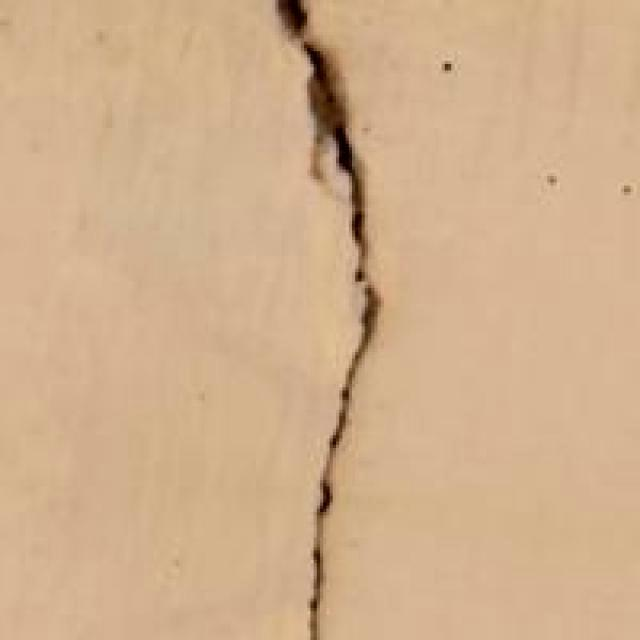crack: (216, 0, 440, 630)
